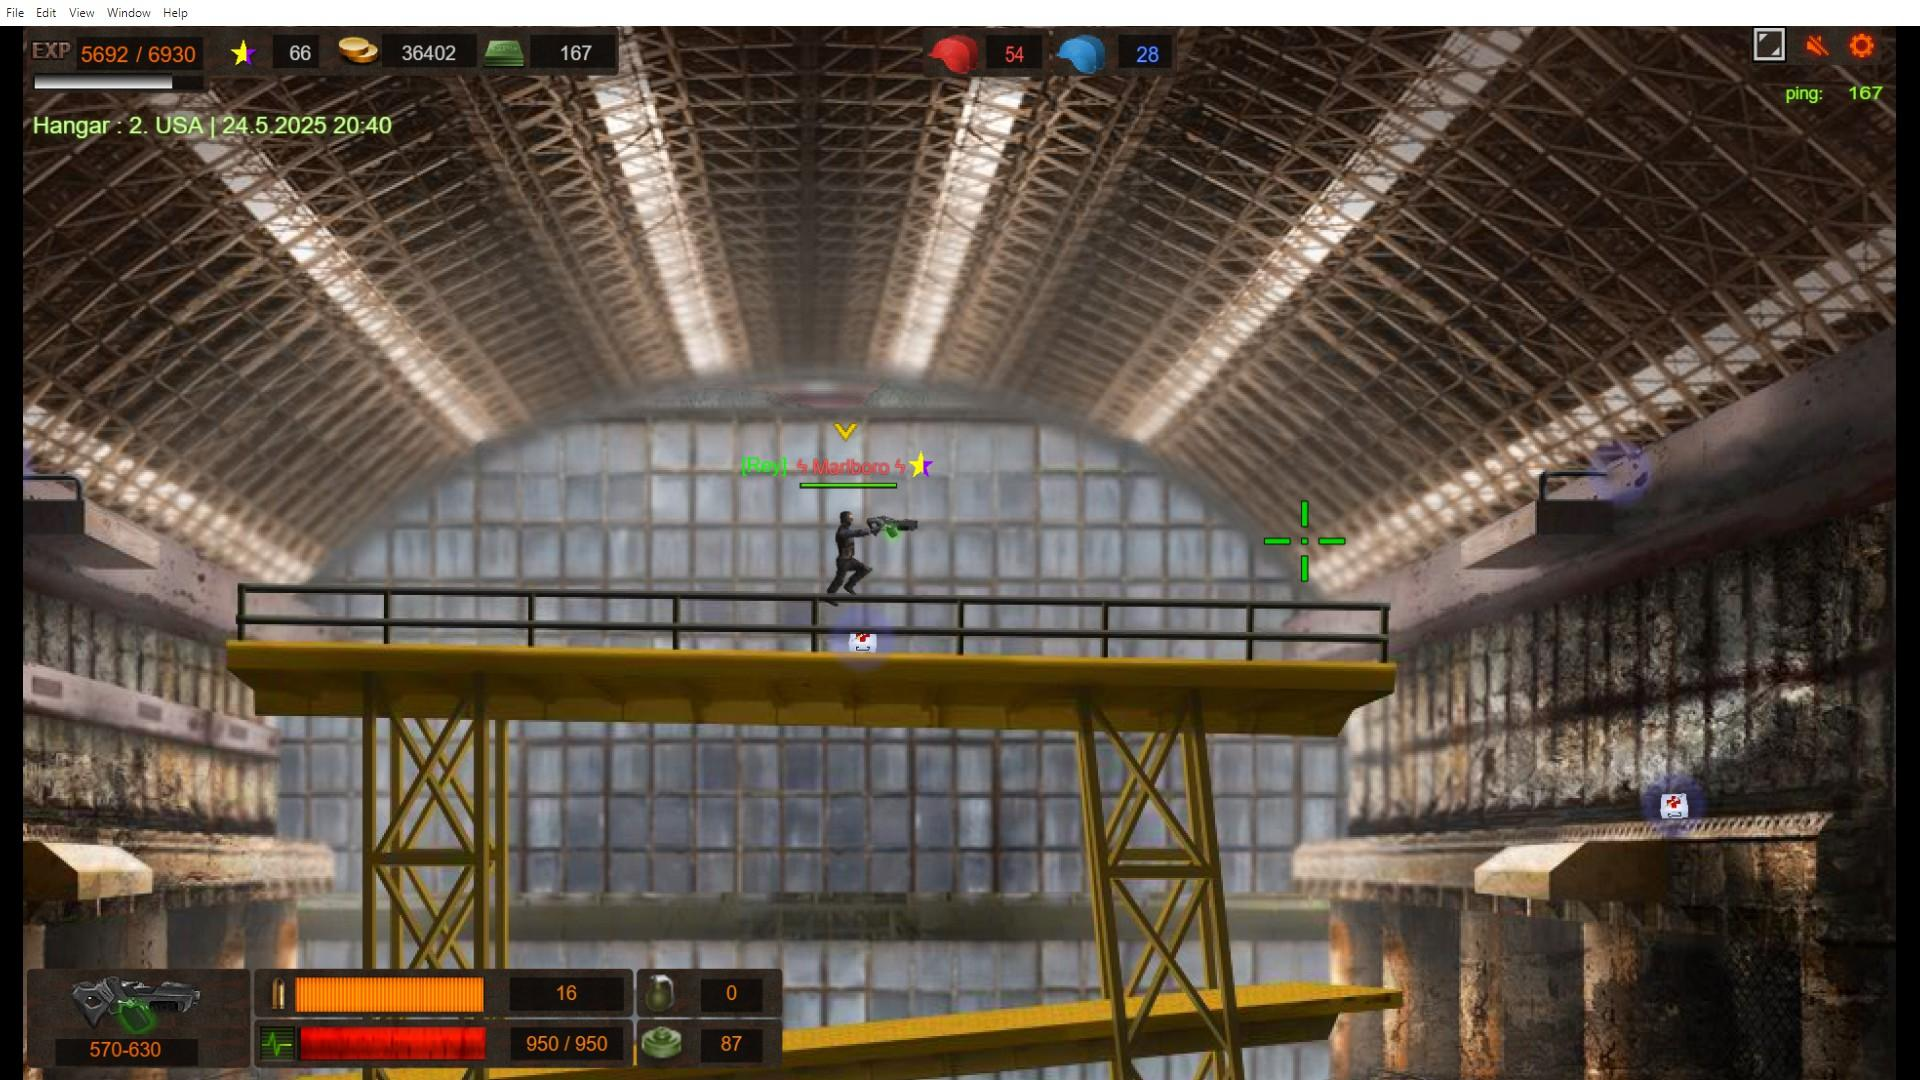enemy: (837, 510, 861, 607)
